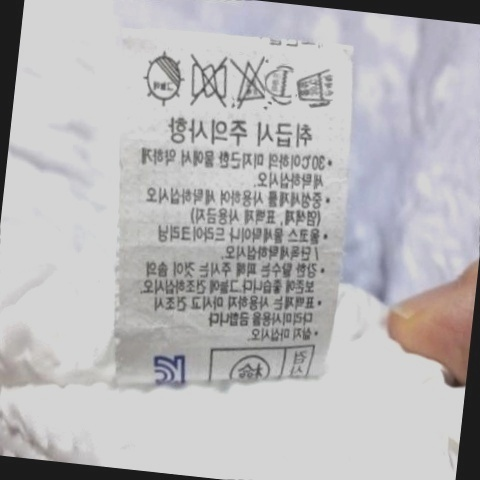DN_wring: (182, 52, 231, 107)
dry_clean: (264, 64, 298, 101)
hand_wash: (292, 61, 340, 108)
non_chlorine_bleach: (230, 53, 270, 107)
shade_dry: (137, 48, 188, 109)
